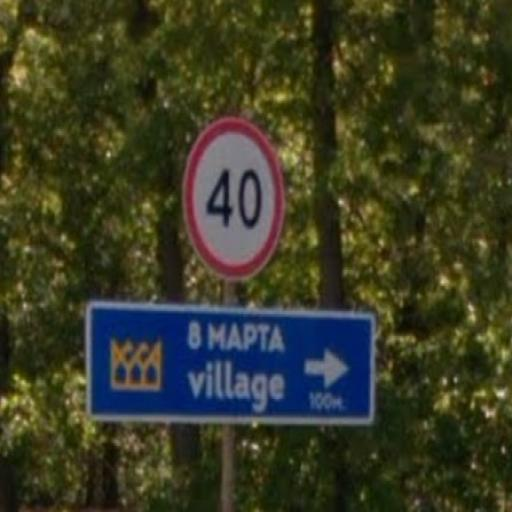traffic_sign: (183, 117, 287, 281)
